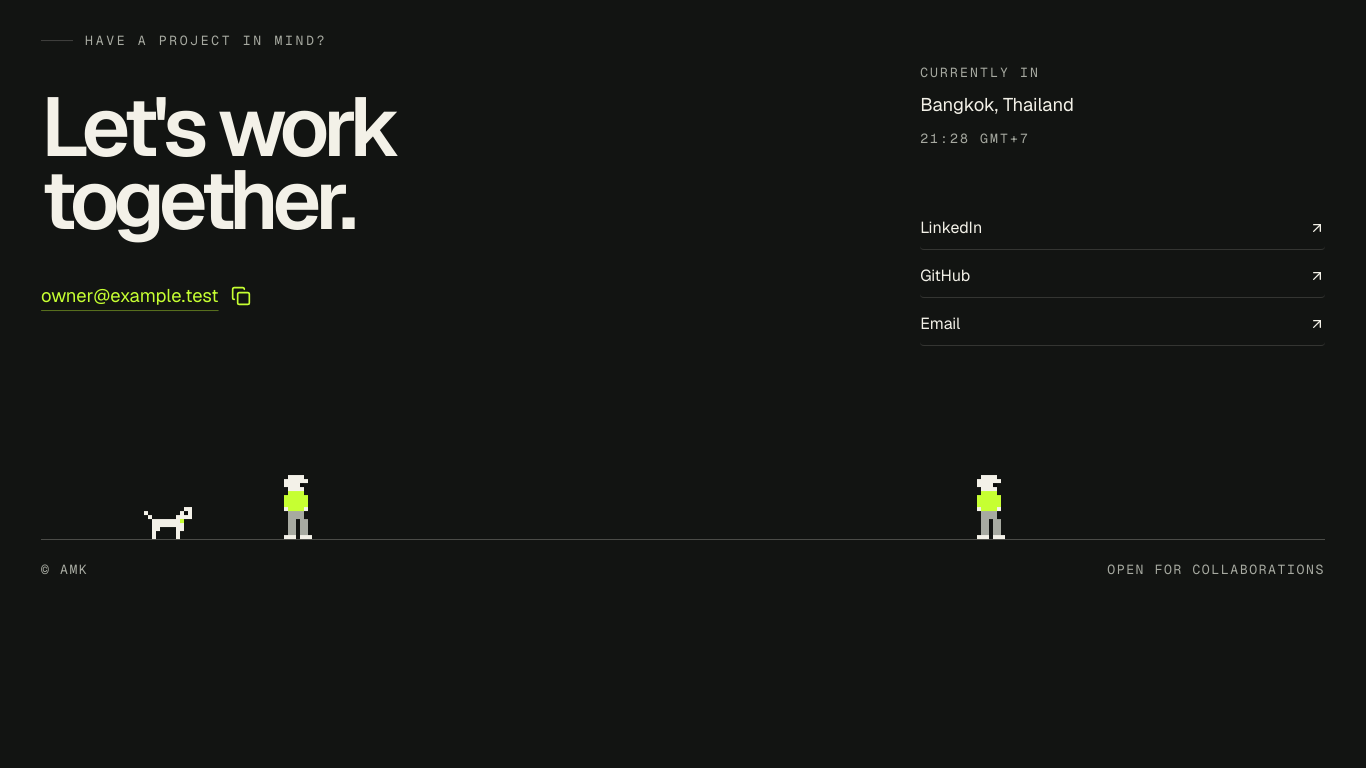
Contact › selects the visible email and announces the fallback on rejection
Click the button named "copy email": click(146, 296) [41,274,251,318]
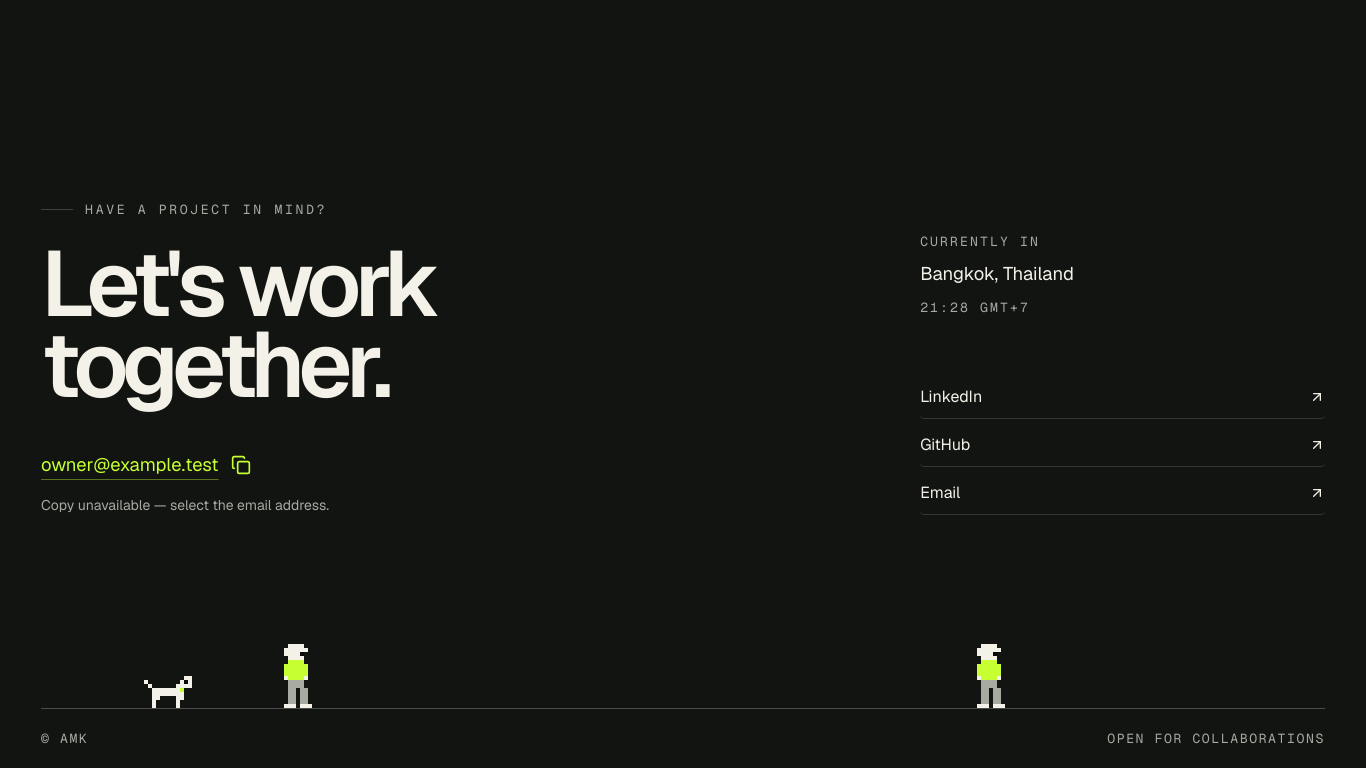
Now the message reads "Copy unavailable — select the email address.", box [41,496,329,514]
